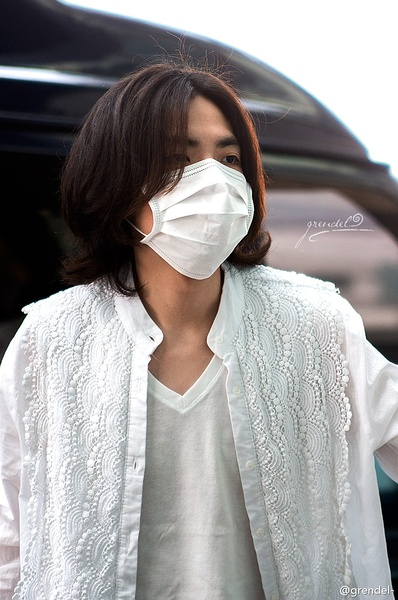face_mask: (142, 99, 248, 272)
